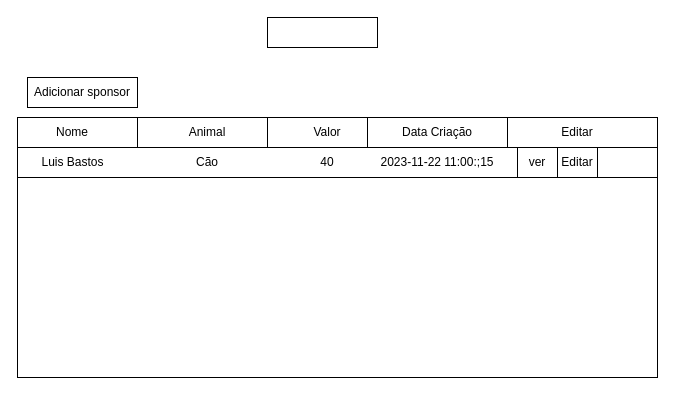
This 675x395 diagram has some shape labels left out. The shapes that lost their labels are listed below. From the top down, each one's centre as x and y in pixels, then its label:
(x=322, y=32): Lista de Sponsors
(x=627, y=162): Remover
